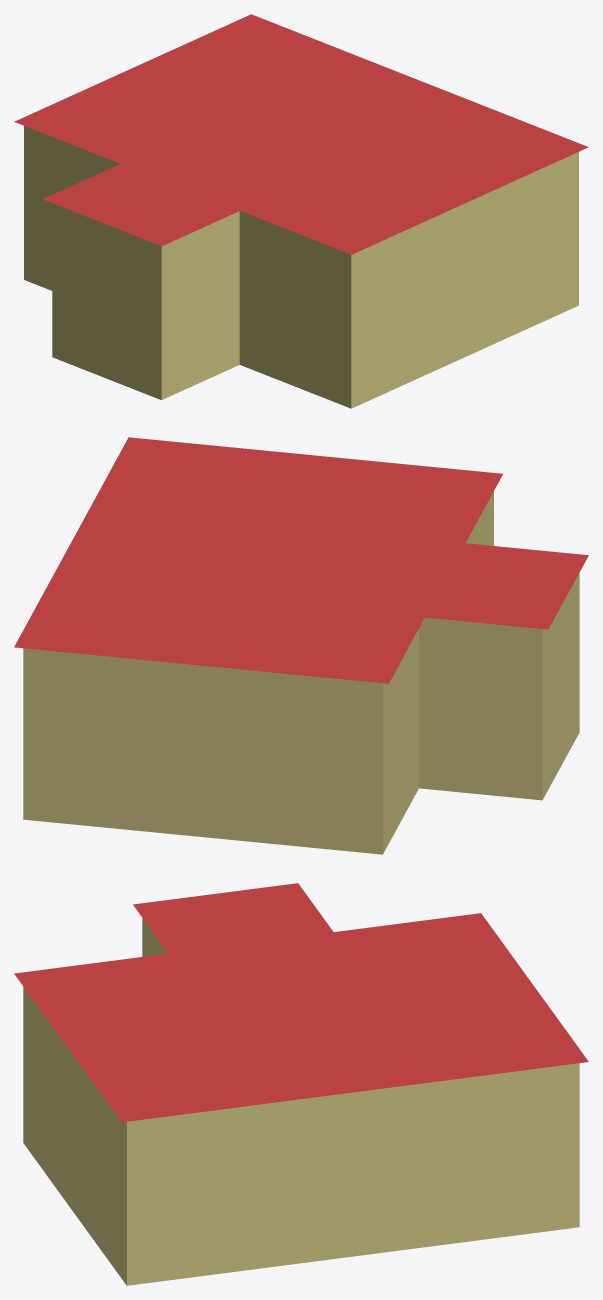
3 renders of one model, top to bottom at view 1: azimuth 30°, elevation 25°; view 2: azimuth 150°, elevation 25°; view 3: azimuth 270°, elevation 25°, orthographic. The views are drawn at different scales.
Size of the model in its own units: 18.78 by 19.07 by 6.13.
